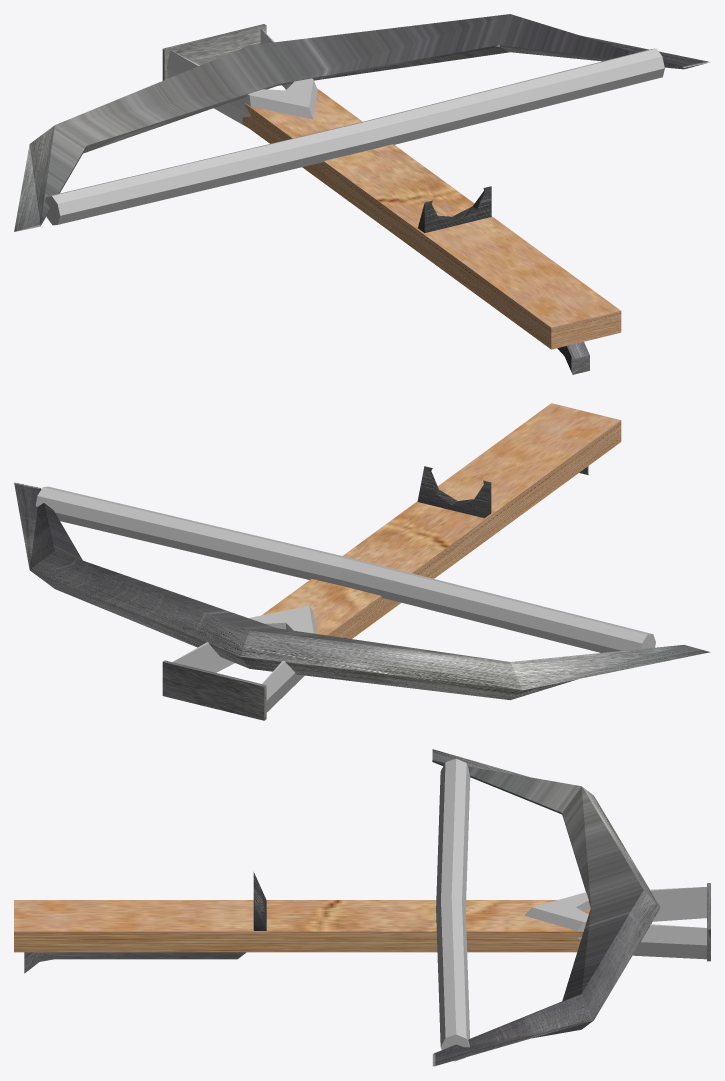
Rendered from Crossbow1.obj.
The picture shows the model from 3 angles, top to bottom: view 1: azimuth 30°, elevation 25°; view 2: azimuth 150°, elevation 25°; view 3: azimuth 270°, elevation 25°; orthographic projection. The views are drawn at different scales.
Visible parts, largest first — view 1: Sphere; view 2: Sphere; view 3: Sphere.
Boxes of the visible parts, x1,y1,x2,y2 form: Sphere: [14, 14, 710, 374]; Sphere: [14, 403, 710, 720]; Sphere: [14, 749, 710, 1066].
Size of the model in its own units: 5.04 by 0.6142 by 4.67.
